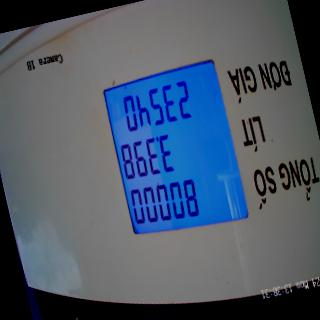screen: (98, 57, 255, 250)
